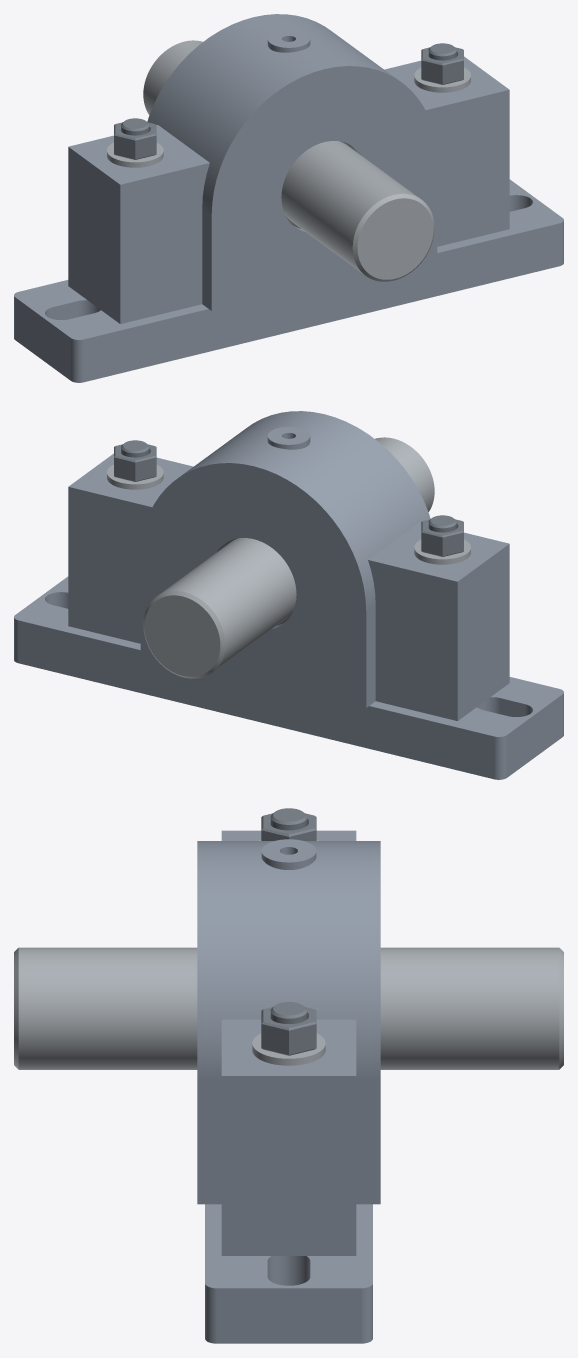
Rendered from step_26.glb.
3 views of the same model, one above another, from view 1: azimuth 30°, elevation 25°; view 2: azimuth 150°, elevation 25°; view 3: azimuth 270°, elevation 25° (orthographic). The views are drawn at different scales.
Visible parts, largest first — view 1: part__housing base, part__housing cap, part__shaft, part__nut 2, part__nut 1, part__washer 1, part__washer 2; view 2: part__housing base, part__housing cap, part__shaft, part__nut 2, part__nut 1, part__washer 1, part__washer 2; view 3: part__housing cap, part__shaft, part__housing base, part__nut 1, part__washer 1, part__nut 2, part__stud 2, part__stud 1.
Part boxes in pixels (x1,y1,x2,y2): part__housing base: (14,132,563,382); part__housing cap: (68,14,509,227); part__shaft: (143,40,434,281); part__nut 2: (114,122,156,159); part__nut 1: (421,47,463,84); part__washer 1: (414,67,470,92); part__washer 2: (107,142,163,167); part__housing base: (14,529,563,779); part__housing cap: (68,411,509,624); part__shaft: (143,437,434,678); part__nut 2: (421,519,463,556); part__nut 1: (114,444,156,481); part__washer 1: (107,464,163,489); part__washer 2: (414,539,470,564); part__housing cap: (197,830,380,1131); part__shaft: (14,947,563,1069); part__housing base: (197,1079,380,1343); part__nut 1: (261,1007,316,1055); part__washer 1: (252,1033,325,1065); part__nut 2: (261,813,316,840); part__stud 2: (270,808,307,830); part__stud 1: (270,1002,307,1023).
Size of the model in its own units: 240 by 122 by 180.
